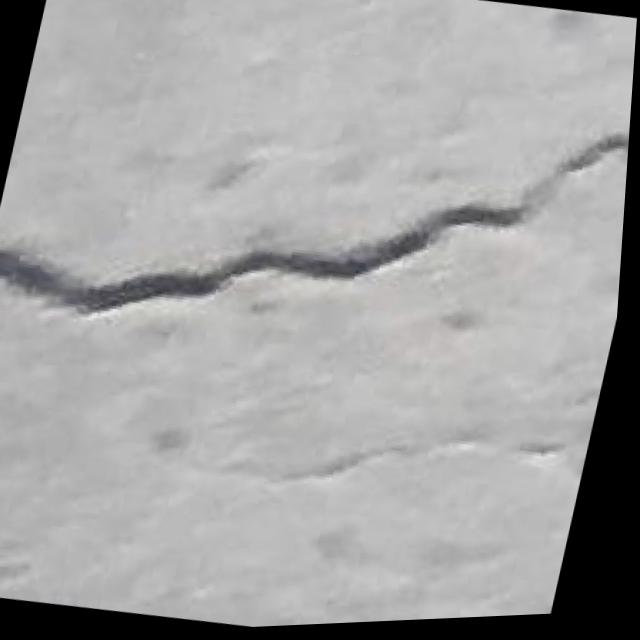Crack: (0, 37, 637, 426)
